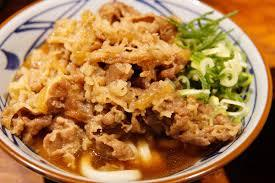niku: (1, 1, 273, 182)
